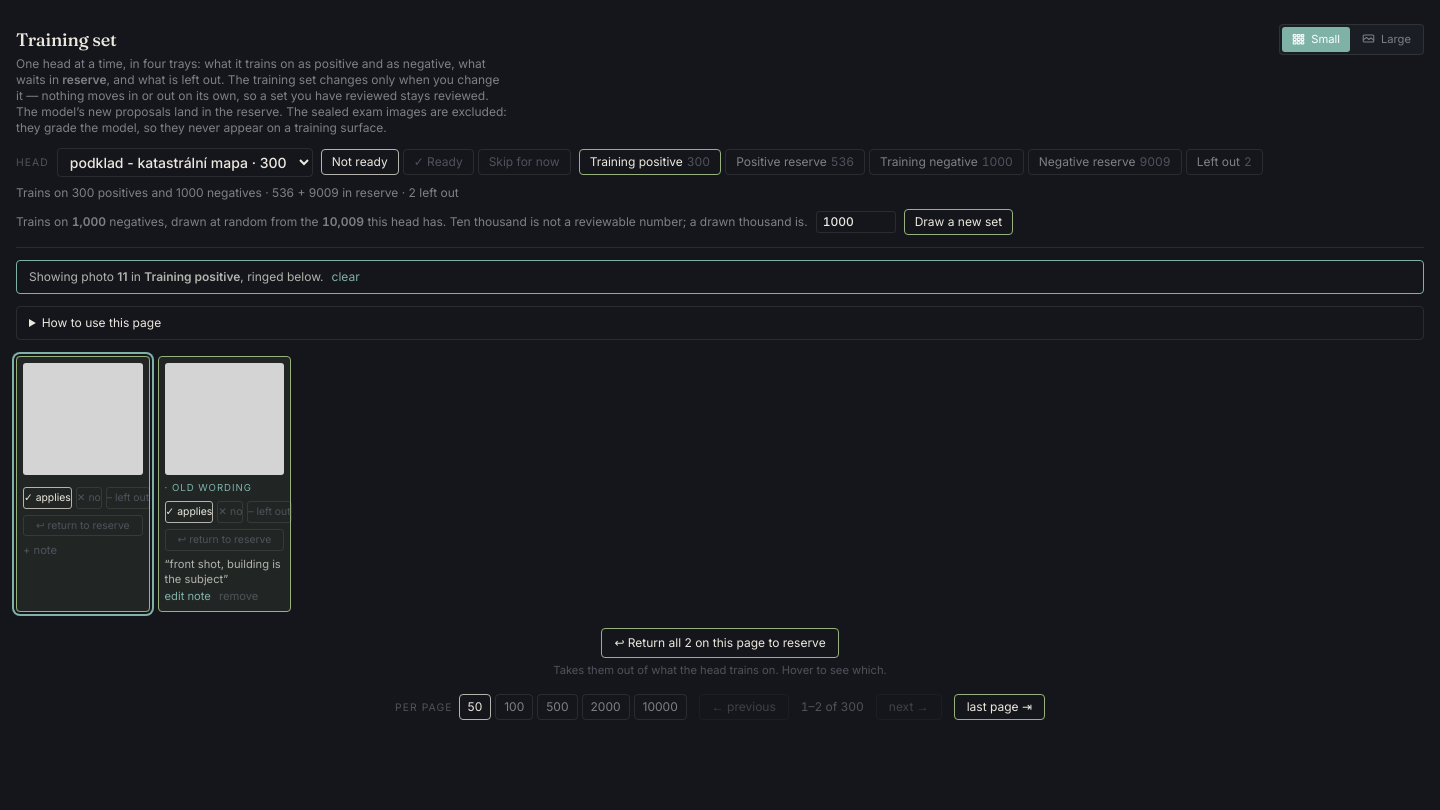
Test: <NewDedupTrainingSet> four trays over stored membership › deep link to one photo › clears the link without moving the page
Expected: the element with test id "deep-link-note" is shown, [16,260,1424,294]
Click the button with test id "deep-link-clear".
click(346, 277)  # box [332,269,360,285]
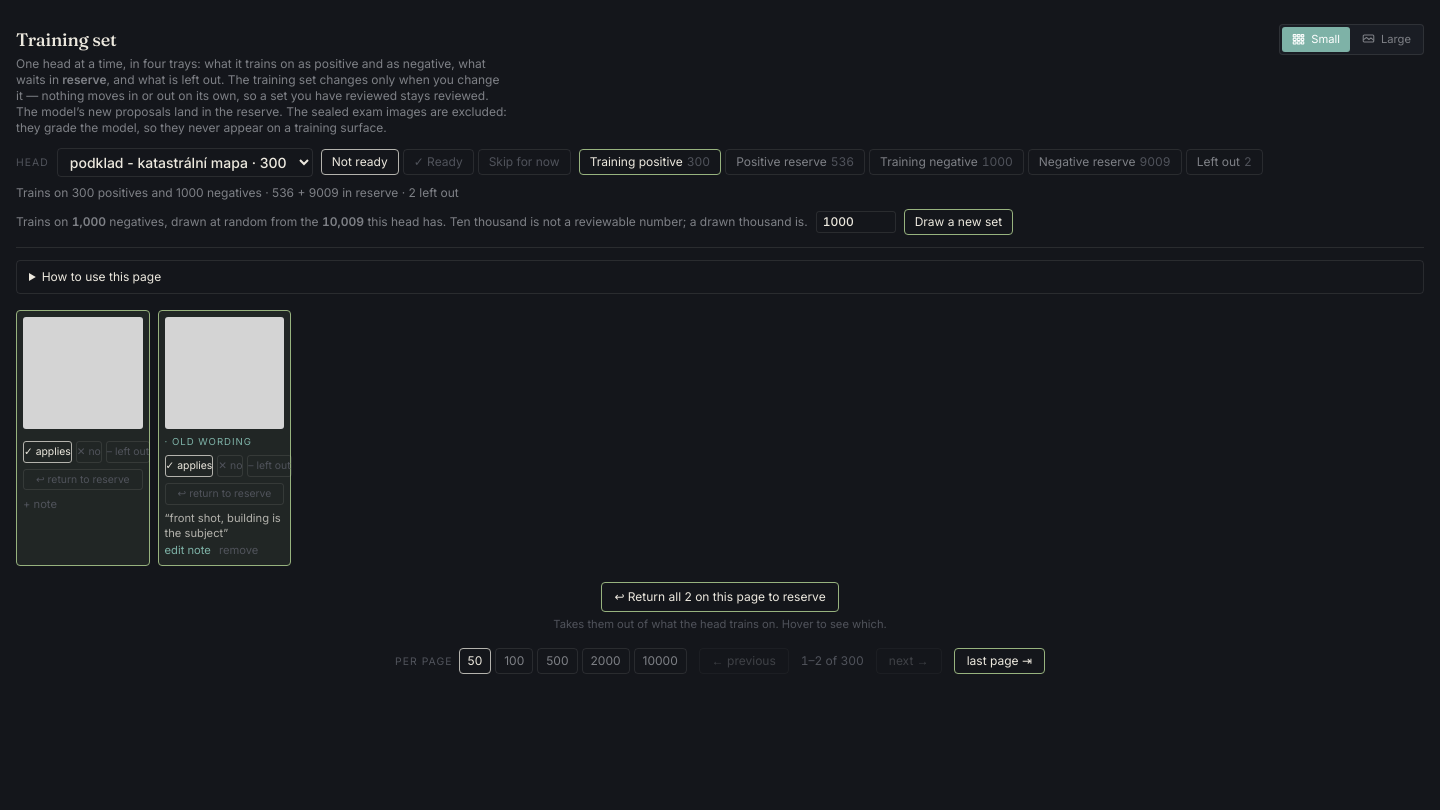
Expected: the element with test id "deep-link-note" is gone
